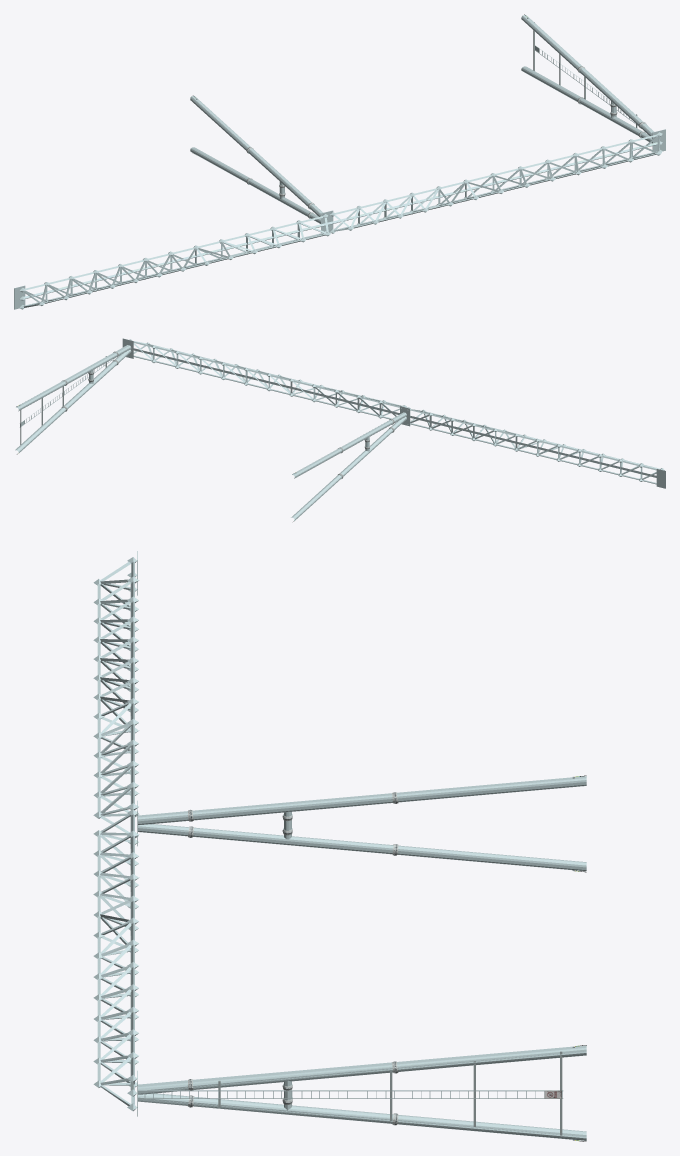
File: jg-lmj-066-geode.glb
The picture shows the model from 3 angles, top to bottom: view 1: azimuth 30°, elevation 25°; view 2: azimuth 150°, elevation 25°; view 3: azimuth 270°, elevation 25°; orthographic projection. The views are drawn at different scales.
Visible parts, largest first — view 1: Node; view 2: Node; view 3: Node.
Part boxes in pixels (<box>): Node: <box>14,14,665,309</box>; Node: <box>15,338,665,521</box>; Node: <box>93,551,586,1141</box>.
Bounding box in the file's own units: 52.92 × 4.5 × 20.81.
7 materials, 7 textured.
